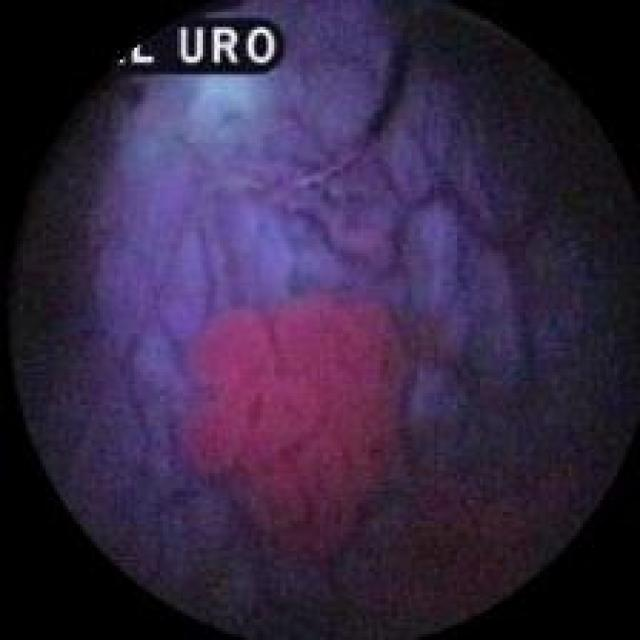color misalignment: (95, 17, 280, 73)
contrast: (6, 77, 113, 414)
instrument: (125, 6, 400, 187)
